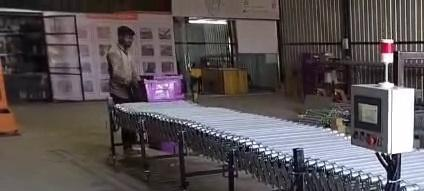box: (146, 76, 184, 101)
